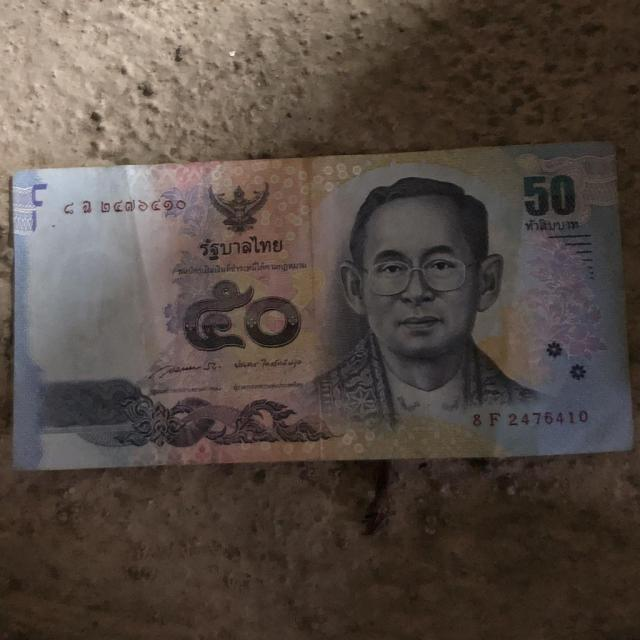THAI50: (11, 142, 632, 470)
